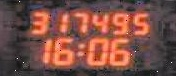0: (85, 37, 106, 64)
1: (38, 37, 49, 63), (54, 12, 68, 31)
3: (28, 10, 48, 33)
4: (89, 12, 108, 32)
5: (129, 11, 148, 35)
6: (51, 36, 73, 65), (108, 37, 129, 66)
7: (71, 11, 86, 32)
9: (109, 10, 128, 33)
X: (74, 42, 83, 56)
